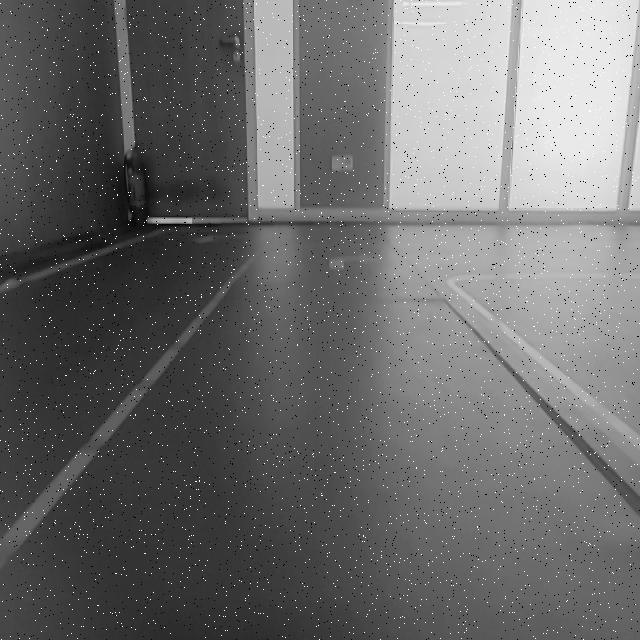left_lane: (0, 255, 254, 572)
right_lane: (451, 282, 640, 465)
